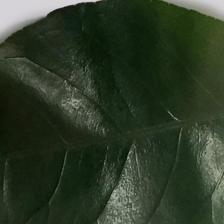healthy: (0, 24, 224, 224)
